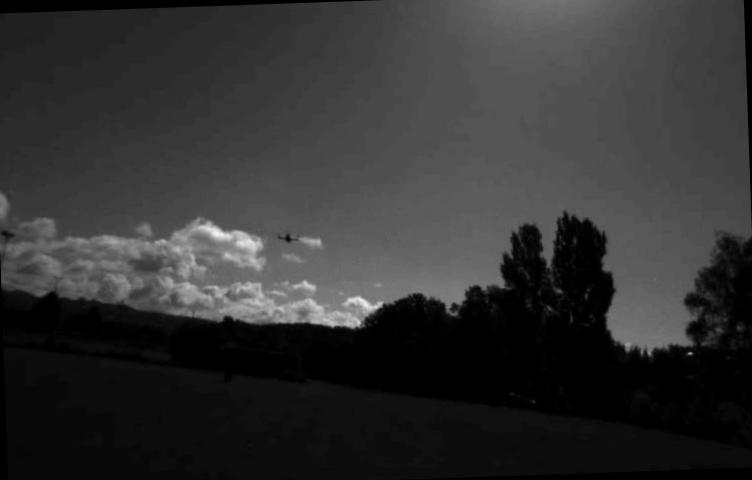drone: (276, 226, 300, 244)
